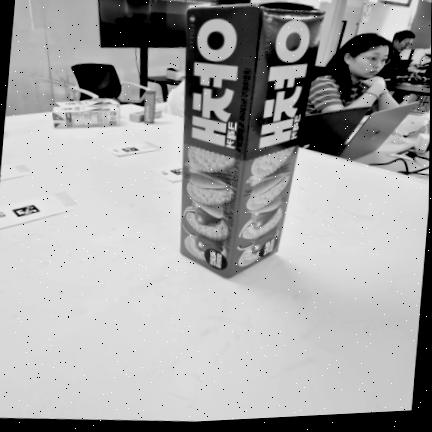cracker_vege: (180, 2, 324, 278)
